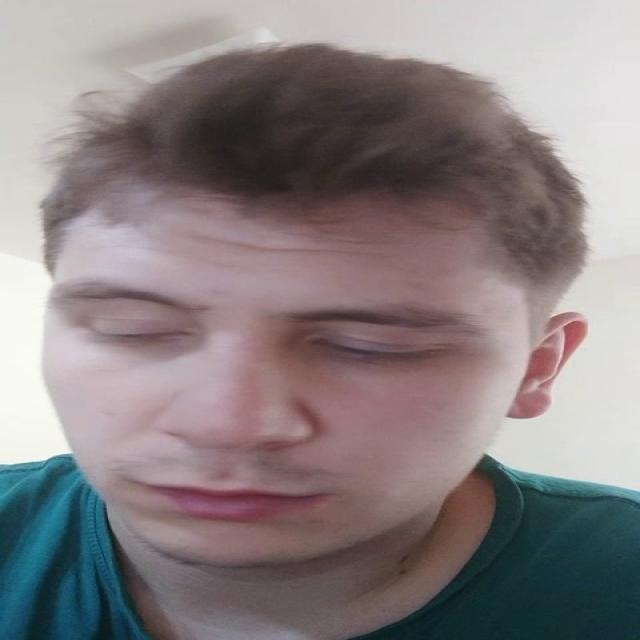Eyeclosed: (311, 332, 445, 370), (89, 317, 190, 350)
